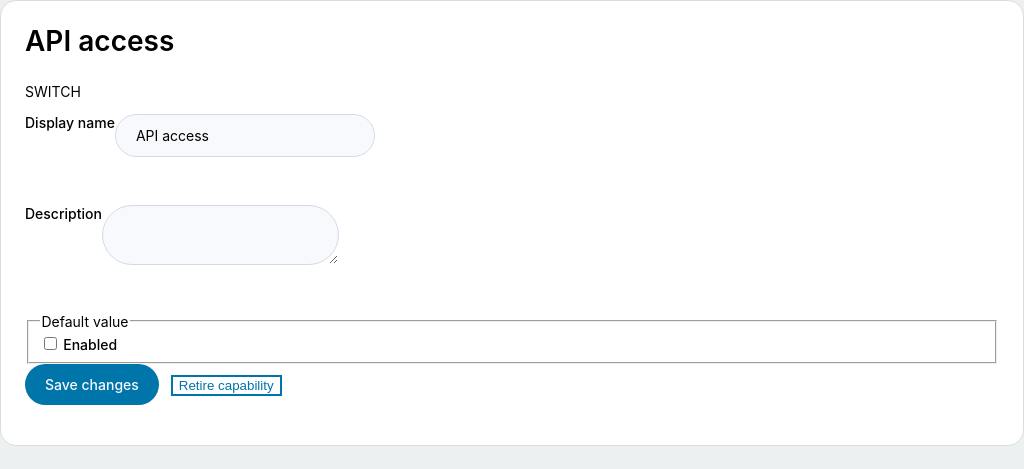
Test case: CapabilityDetailRoute › edits the display name and description
Replace the text in the field labelled "Display name" with "API access (v2)": (245, 135) [115,114,375,157]
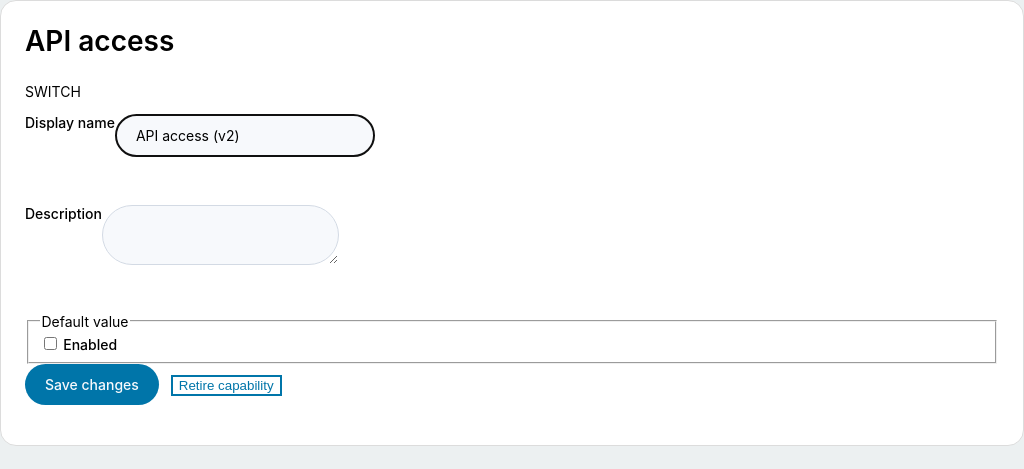
Click the button "Save changes": (92, 385) [25,364,159,405]
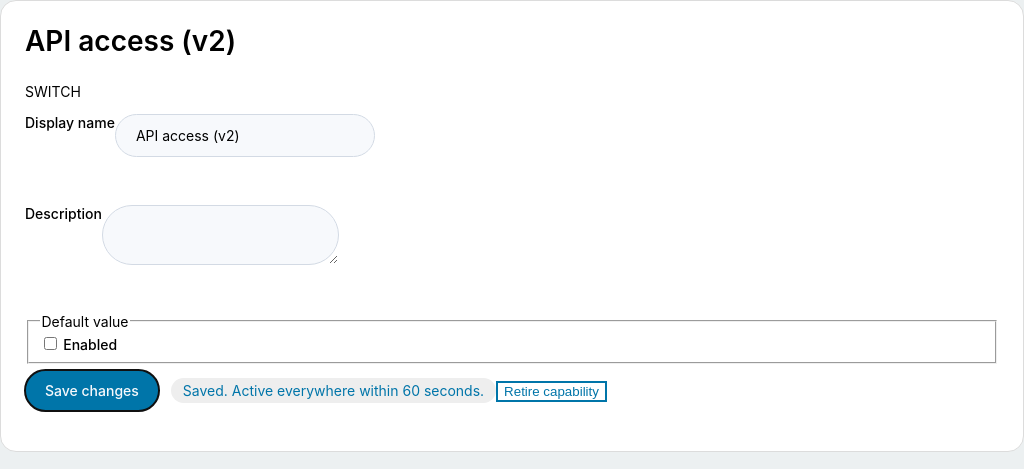
Now the text "Saved. Active everywhere within 60 seconds." is shown, box [171,378,496,403]
